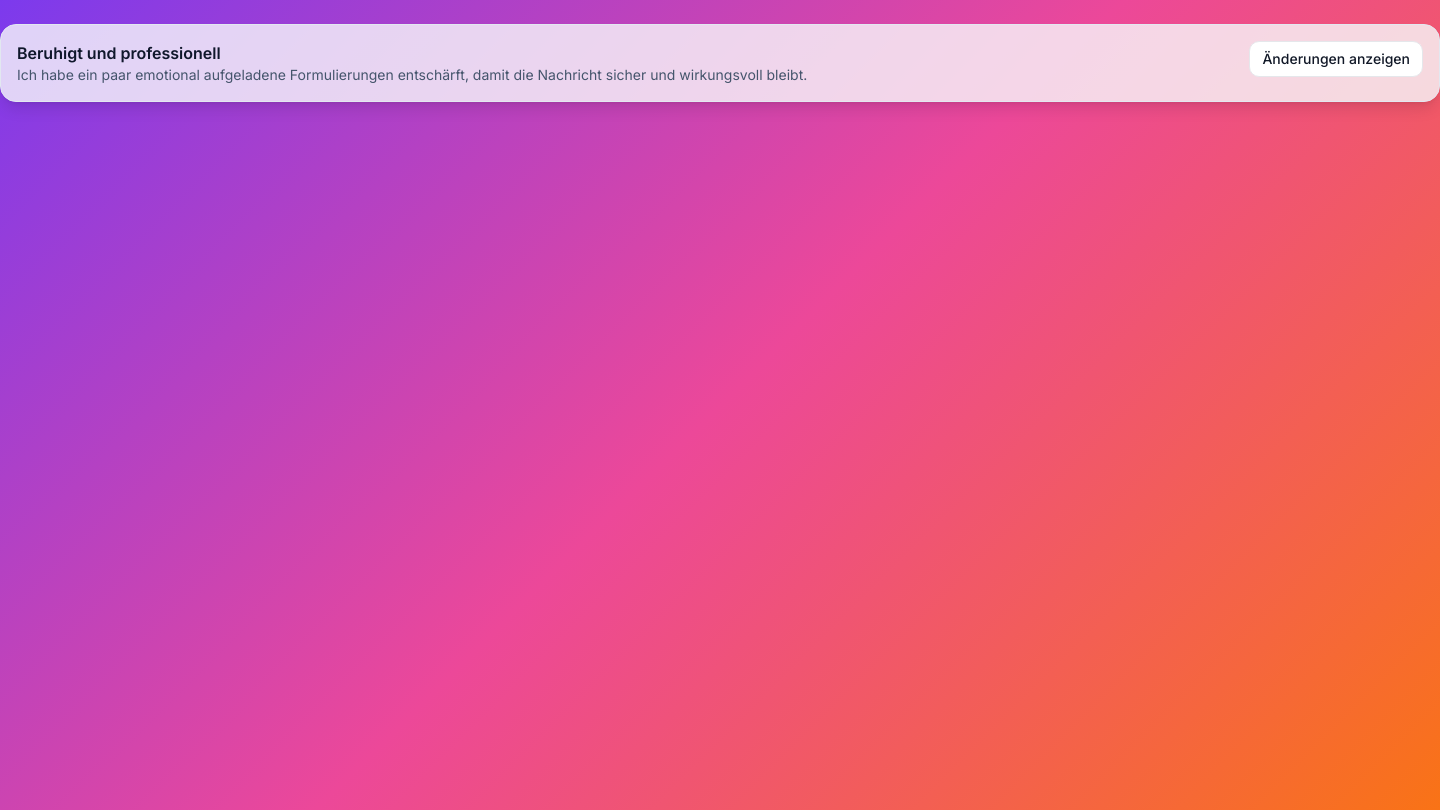
it: DeescalationBanner › renders German copy when the locale is de-DE
Expected: the text "Beruhigt und professionell" is shown, x1=17 y1=43 x2=221 y2=63
Click the button "Änderungen anzeigen": (1336, 59) x1=1249 y1=41 x2=1423 y2=77
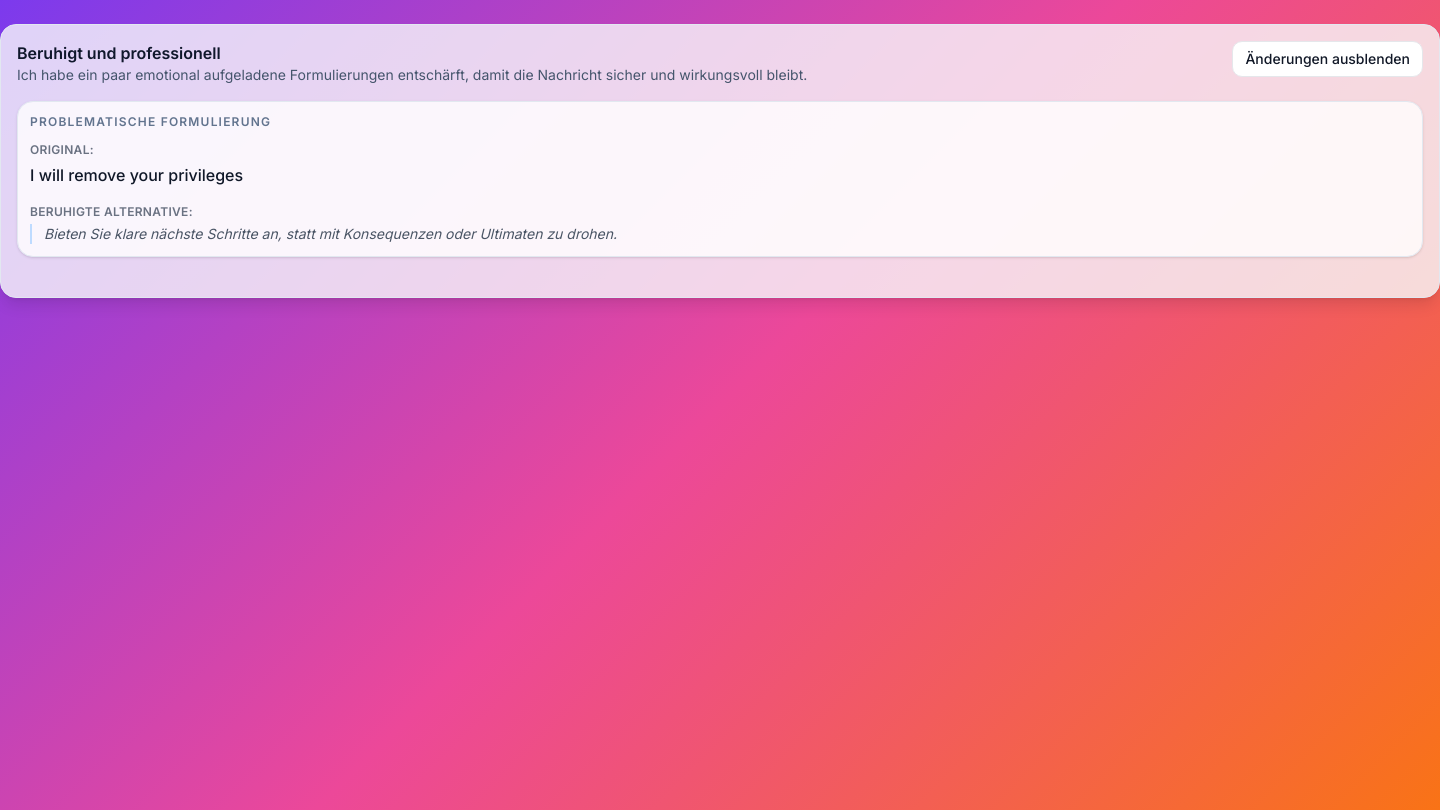
Expected: the button named "Änderungen anzeigen" reads "Änderungen ausblenden", x1=1232 y1=41 x2=1423 y2=77
Expected: the text "Problematische Formulierung" is shown, x1=30 y1=114 x2=271 y2=130
Expected: the text "Bieten Sie klare nächste Schritte an, statt mit Konsequenzen oder Ultimaten zu drohen." is shown, x1=44 y1=225 x2=617 y2=242
